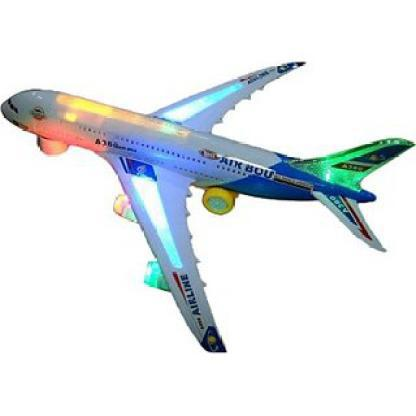CIV_Plane: (3, 57, 413, 360)
